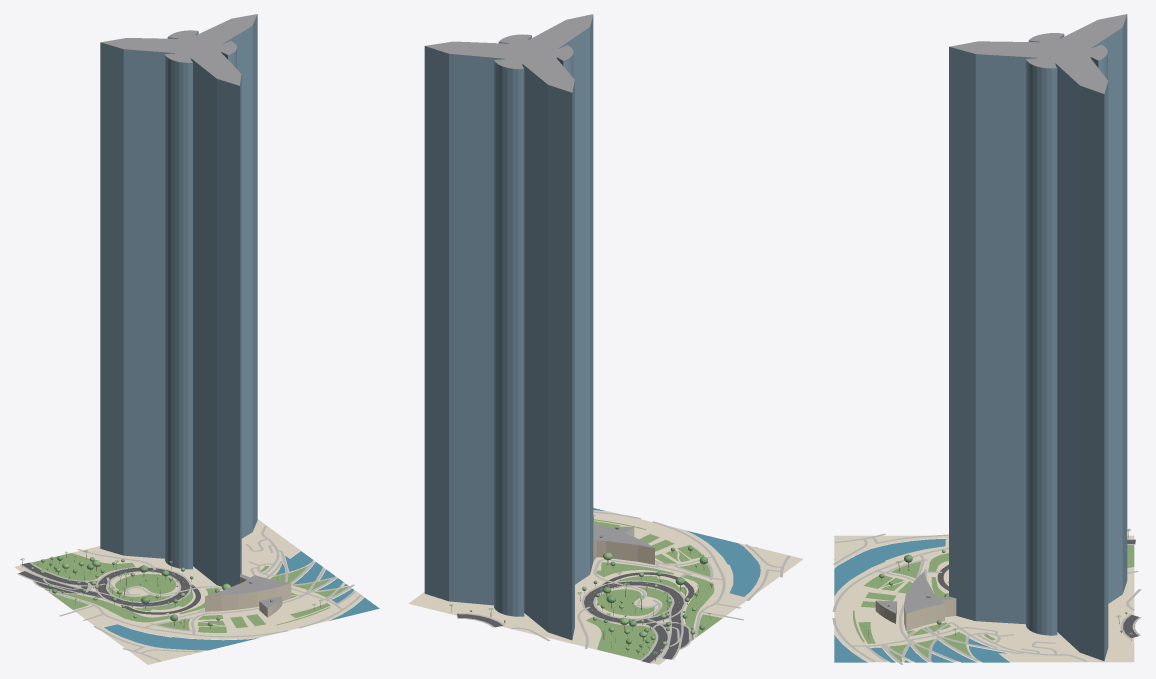
The model's file is tile_-2_1.glb.
3 renders of one model, left to right at view 1: azimuth 30°, elevation 25°; view 2: azimuth 150°, elevation 25°; view 3: azimuth 270°, elevation 25°, orthographic. The views are drawn at different scales.
Parts seen in each view (by area): view 1: buildings_glass_blue, nature_ground, nature_grass, buildings_roof, roads_sidewalk, nature_water, roads_asphalt, buildings_sandstone, nature_foliage_a; view 2: buildings_glass_blue, nature_ground, nature_grass, buildings_roof, roads_sidewalk, roads_asphalt, nature_water, buildings_sandstone, nature_foliage_a, nature_foliage_b; view 3: buildings_glass_blue, nature_ground, buildings_roof, nature_water, roads_sidewalk, nature_grass, buildings_sandstone.
Part boxes in pixels (x1=…): buildings_glass_blue: x1=100, y1=14, x2=257, y2=586; nature_ground: x1=14, y1=519, x2=364, y2=664; nature_grass: x1=32, y1=553, x2=349, y2=654; buildings_roof: x1=101, y1=14, x2=290, y2=608; roads_sidewalk: x1=17, y1=526, x2=361, y2=661; nature_water: x1=104, y1=551, x2=379, y2=650; roads_asphalt: x1=19, y1=562, x2=200, y2=614; buildings_sandstone: x1=205, y1=577, x2=291, y2=611; nature_foliage_a: x1=41, y1=556, x2=220, y2=626; buildings_glass_blue: x1=424, y1=15, x2=593, y2=640; nature_ground: x1=408, y1=510, x2=803, y2=664; nature_grass: x1=586, y1=519, x2=757, y2=659; buildings_roof: x1=425, y1=14, x2=653, y2=547; roads_sidewalk: x1=457, y1=511, x2=790, y2=663; roads_asphalt: x1=457, y1=572, x2=694, y2=662; nature_water: x1=593, y1=508, x2=760, y2=596; buildings_sandstone: x1=593, y1=540, x2=654, y2=564; nature_foliage_a: x1=470, y1=546, x2=707, y2=652; nature_foliage_b: x1=582, y1=552, x2=713, y2=654; buildings_glass_blue: x1=949, y1=14, x2=1127, y2=660; nature_ground: x1=834, y1=535, x2=1134, y2=662; buildings_roof: x1=876, y1=14, x2=1126, y2=613; nature_water: x1=834, y1=539, x2=1009, y2=662; roads_sidewalk: x1=832, y1=533, x2=1141, y2=664; nature_grass: x1=834, y1=545, x2=1134, y2=662; buildings_sandstone: x1=904, y1=598, x2=956, y2=631.
Bounding box in the file's own units: 273 × 522 × 258.
